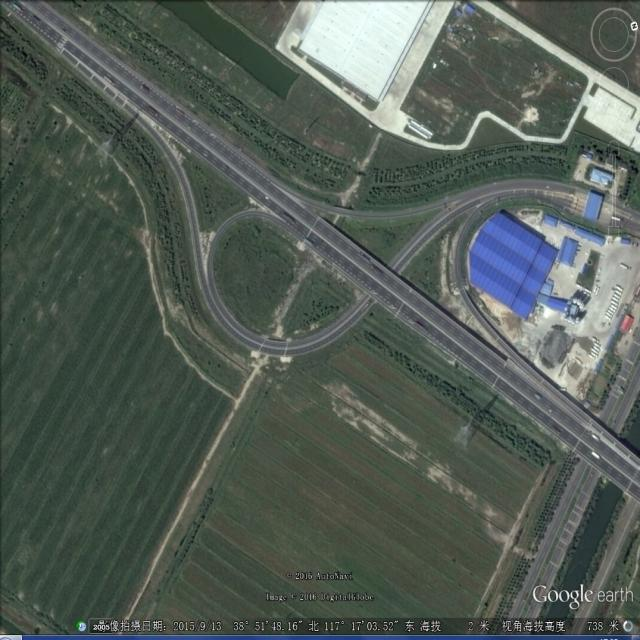overpass: (145, 95, 460, 363)
